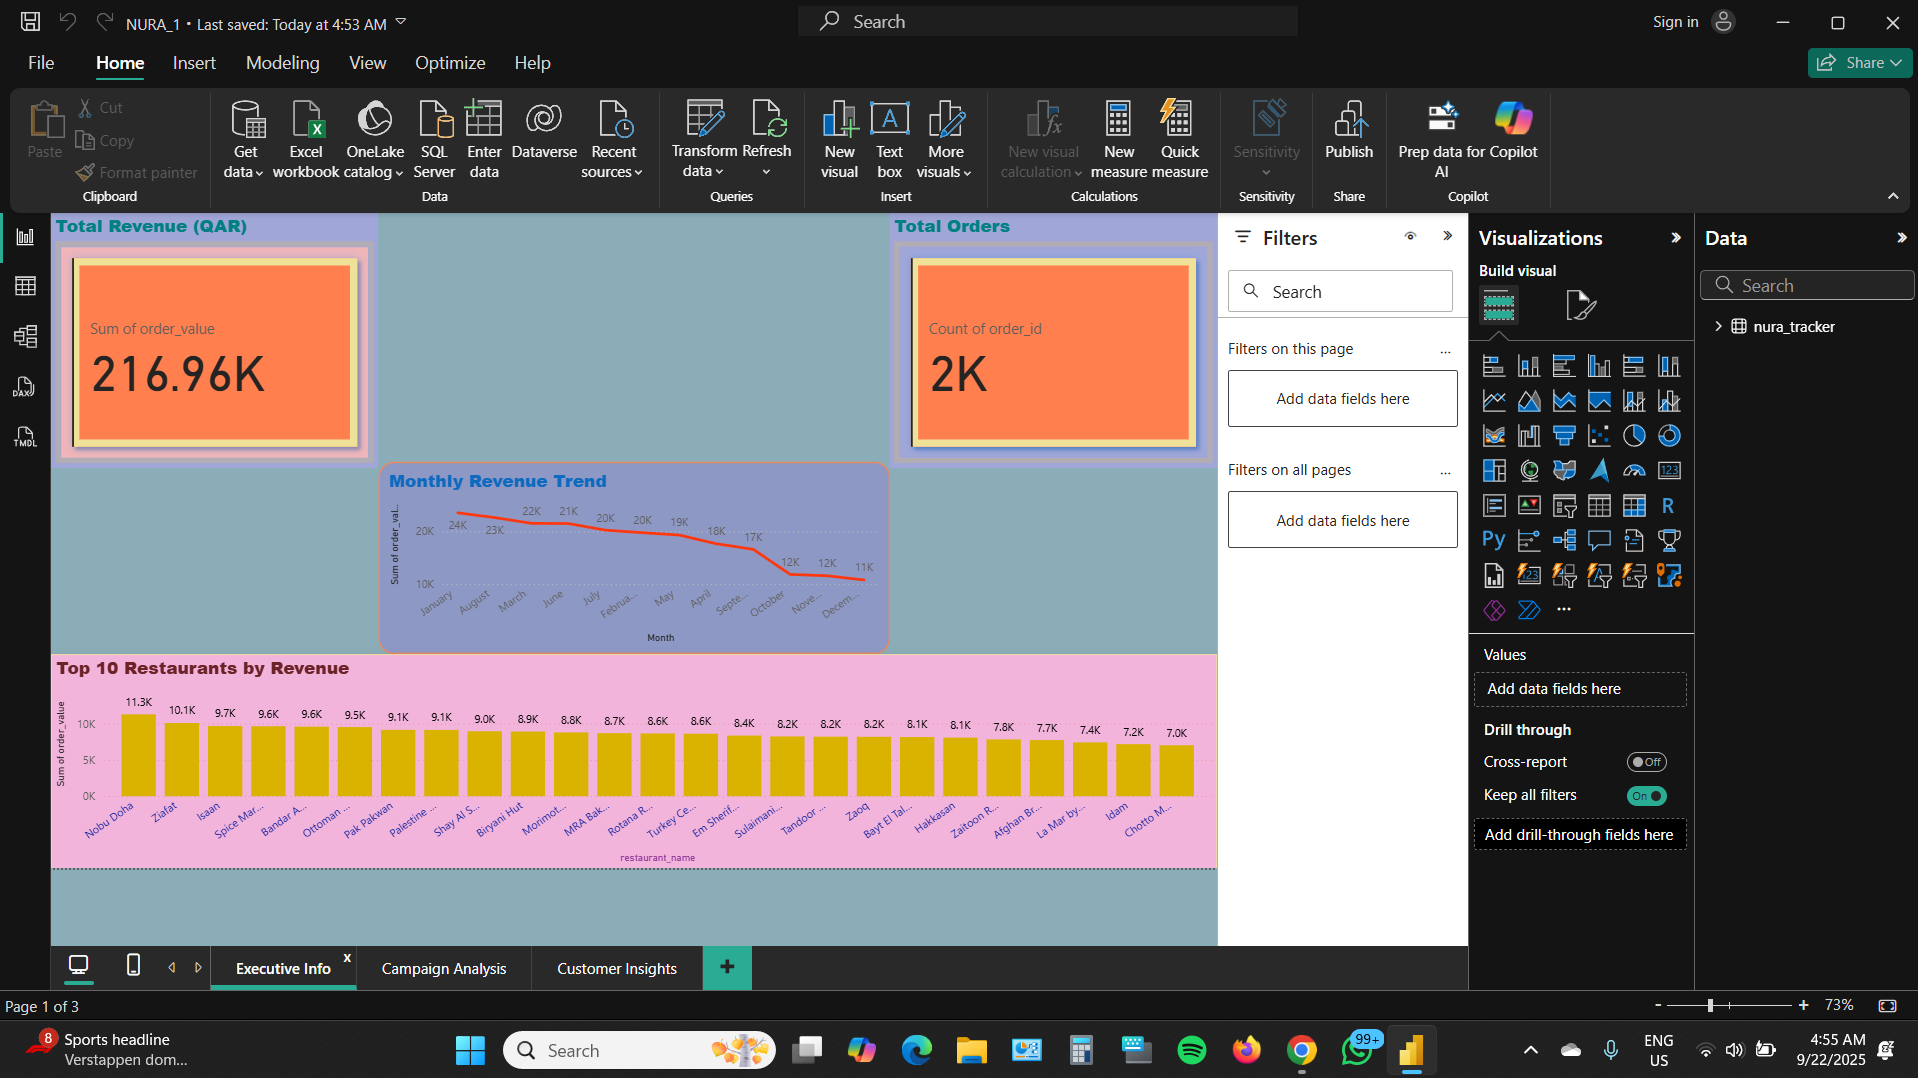

The page's visual inventory and layout, read from the dashboard file:
{"tool":"powerbi","page":{"name":"Executive Info","canvas":[1280,720],"ordinal":0},"visuals":[{"type":"cardVisual","title":"Total Revenue (QAR)","fields":{"Data":["nura_tracker.order_value"]},"box":[0,0,359.5,279.9],"z":0},{"type":"cardVisual","title":"Total Orders","fields":{"Data":["nura_tracker.order_id"]},"box":[920.8,0,359.5,279.9],"z":1},{"type":"lineChart","title":"Monthly Revenue Trend","fields":{"Category":["nura_tracker.order_date.Variation.Date Hierarchy.Month"],"Y":["nura_tracker.order_value"]},"box":[359.5,273.1,561.2,211.3],"z":2},{"type":"clusteredColumnChart","title":"Top 10 Restaurants by Revenue","fields":{"Category":["nura_tracker.restaurant_name"],"Y":["nura_tracker.order_value"]},"box":[0,484.4,1280.3,236],"z":3}]}

Visuals, with their boxes on the page's 1280x720 design canvas (x1, y1, x2, y2). These are canvas units, not pixel positions in the 1918x1078 screenshot, which may show the page scaled, cropped or inside an application window:
"Total Revenue (QAR)" cardVisual: [left=0, top=0, right=360, bottom=280]
"Total Orders" cardVisual: [left=921, top=0, right=1280, bottom=280]
"Monthly Revenue Trend" lineChart: [left=360, top=273, right=921, bottom=484]
"Top 10 Restaurants by Revenue" clusteredColumnChart: [left=0, top=484, right=1280, bottom=720]
